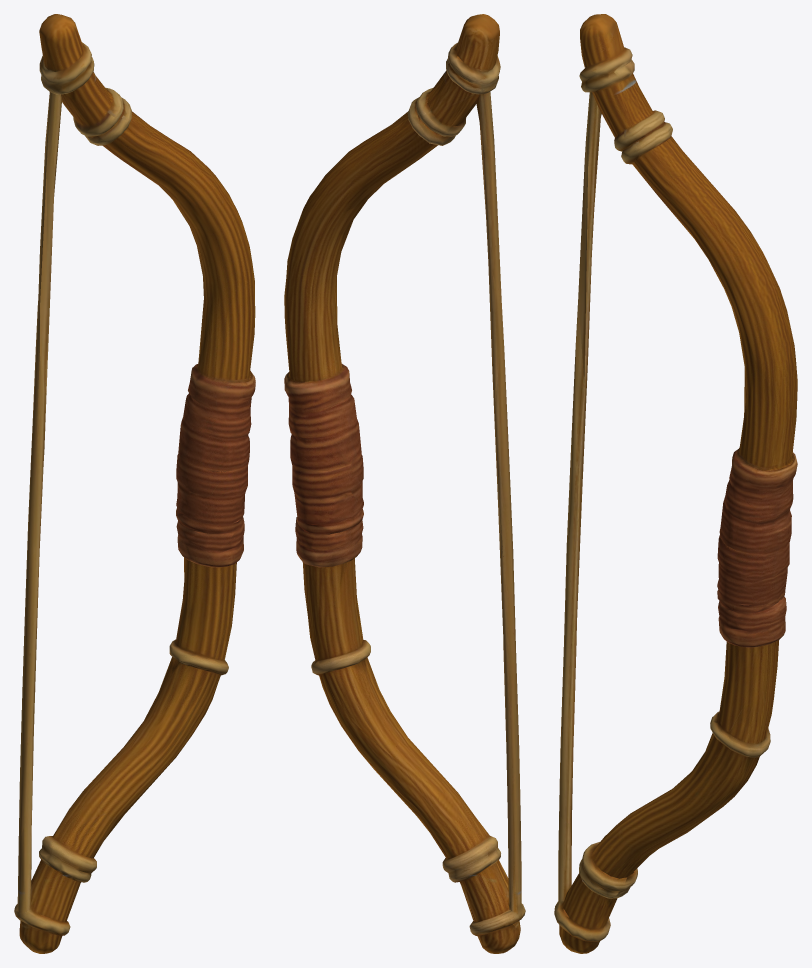
The model's file is wpn_bow.glb.
The picture shows the model from 3 angles, left to right: view 1: azimuth 30°, elevation 25°; view 2: azimuth 150°, elevation 25°; view 3: azimuth 330°, elevation 25°; orthographic projection.
Parts seen in each view (by area): view 1: Mesh_0; view 2: Mesh_0; view 3: Mesh_0.
Boxes of the visible parts, <box> form: Mesh_0: <box>14,14,255,953</box>; Mesh_0: <box>284,14,525,953</box>; Mesh_0: <box>554,14,797,953</box>.
Bounding box in the file's own units: 0.6802 × 2.6 × 0.1986.
1 material, 1 textured.
